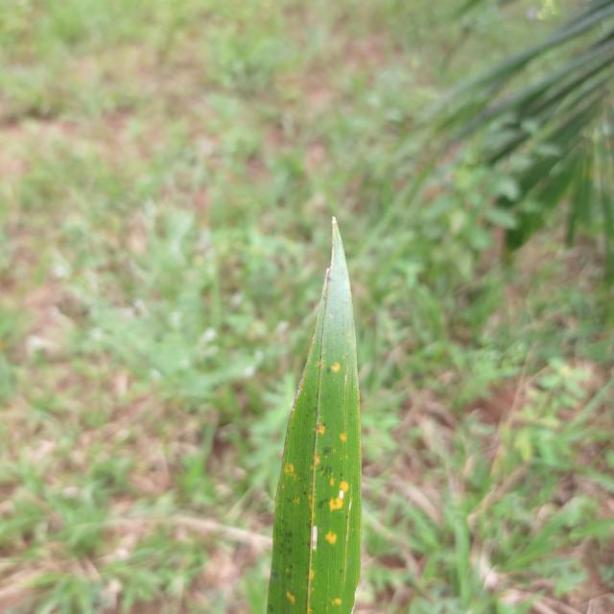Kalium: (266, 209, 364, 614)
